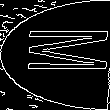M_E: (4, 31, 106, 79)
